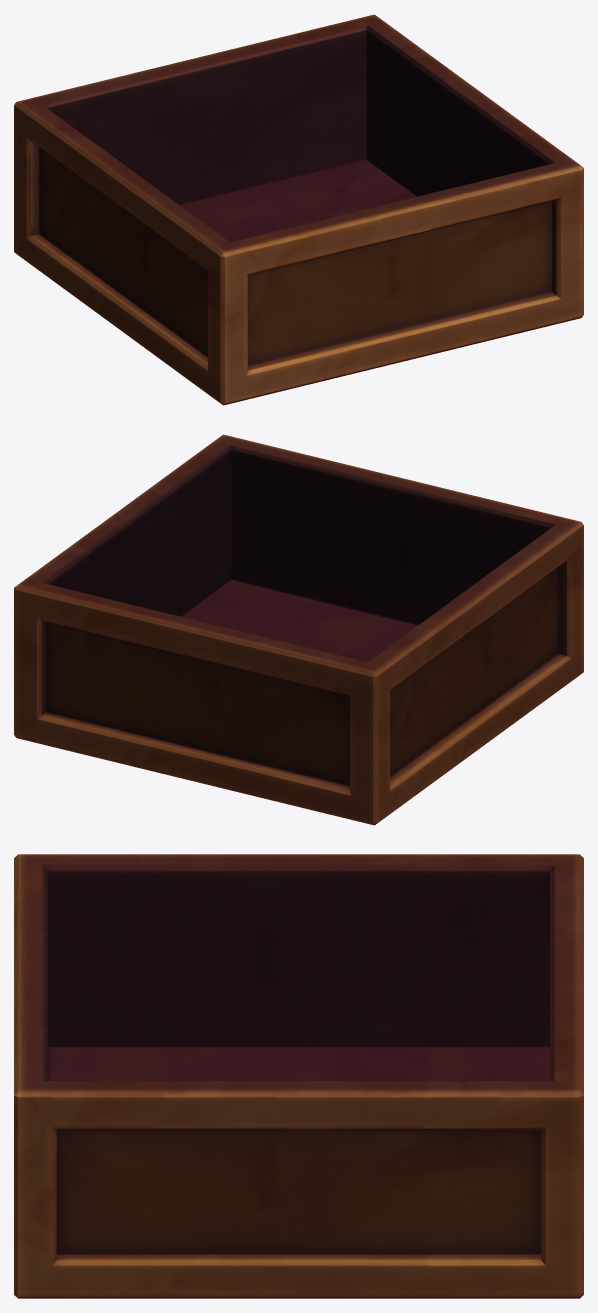
The model's file is IngredientsBox.fbx.
The picture shows the model from 3 angles, top to bottom: view 1: azimuth 30°, elevation 25°; view 2: azimuth 150°, elevation 25°; view 3: azimuth 270°, elevation 25°; orthographic projection. The views are drawn at different scales.
Parts seen in each view (by area): view 1: Ingredients_Box; view 2: Ingredients_Box; view 3: Ingredients_Box.
Boxes of the visible parts, <box> form: Ingredients_Box: <box>14,14,583,405</box>; Ingredients_Box: <box>14,434,583,825</box>; Ingredients_Box: <box>14,854,583,1298</box>.
Bounding box in the file's own units: 200 × 80.19 × 200.
